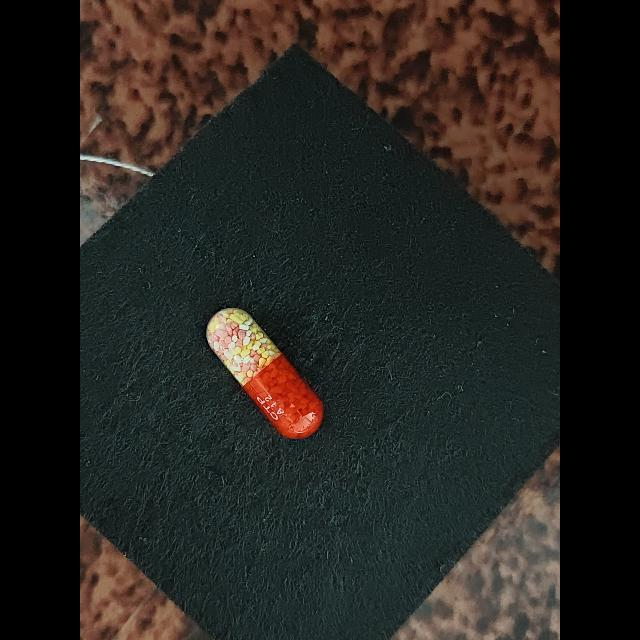Intact Capsule: (206, 307, 323, 439)
